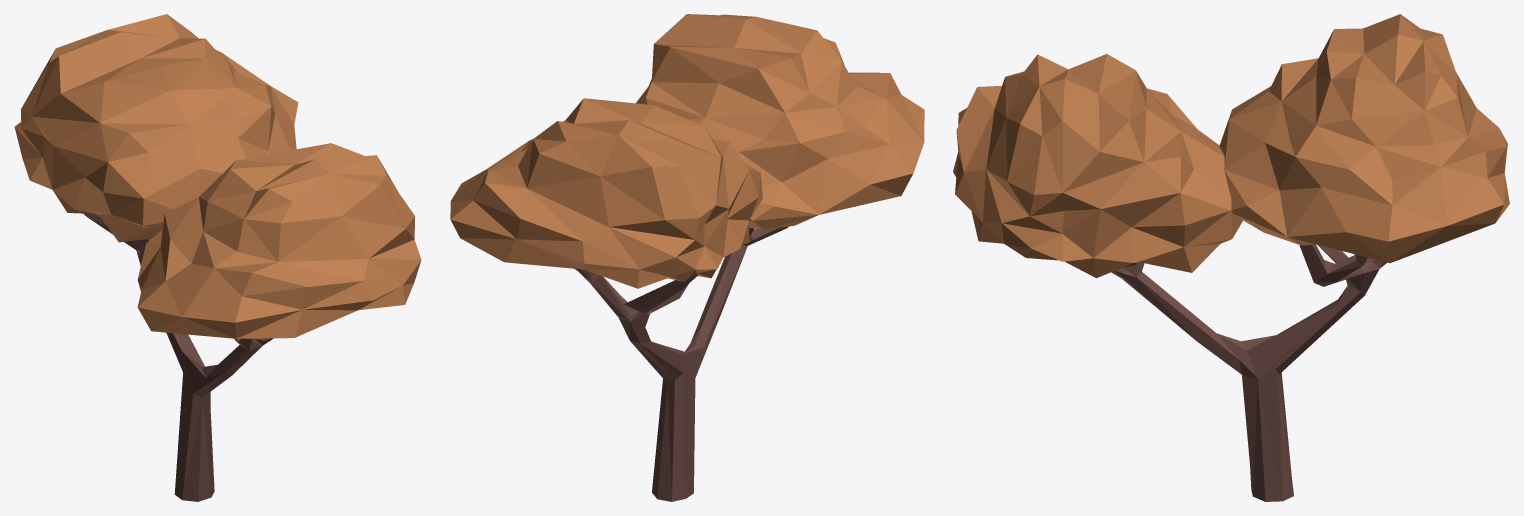
Rendered from CommonTree_Autumn_1.lod2.glb.
3 views of the same model, side by side, from view 1: azimuth 30°, elevation 25°; view 2: azimuth 150°, elevation 25°; view 3: azimuth 270°, elevation 25° (orthographic). The views are drawn at different scales.
Visible parts, largest first — view 1: CommonTree_Autumn_1; view 2: CommonTree_Autumn_1; view 3: CommonTree_Autumn_1.
Part boxes in pixels (<box>): CommonTree_Autumn_1: <box>14,14,421,501</box>; CommonTree_Autumn_1: <box>450,14,924,501</box>; CommonTree_Autumn_1: <box>953,14,1509,501</box>.
Bounding box in the file's own units: 1.89 × 2.48 × 2.77.
